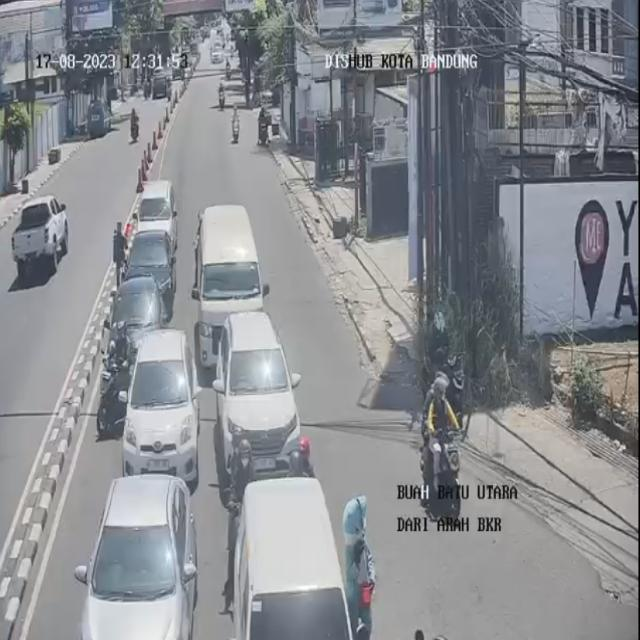bus: (195, 207, 264, 375)
cars: (232, 479, 353, 640), (81, 478, 200, 640), (216, 312, 301, 478), (121, 331, 201, 490), (105, 278, 168, 358), (123, 232, 178, 317), (138, 180, 179, 249), (211, 46, 224, 63)
motorcycle: (422, 369, 466, 522), (420, 307, 466, 427), (96, 321, 135, 440), (231, 429, 256, 556), (289, 437, 316, 478), (258, 106, 268, 146), (231, 103, 240, 144), (218, 80, 225, 111), (225, 58, 231, 81)
